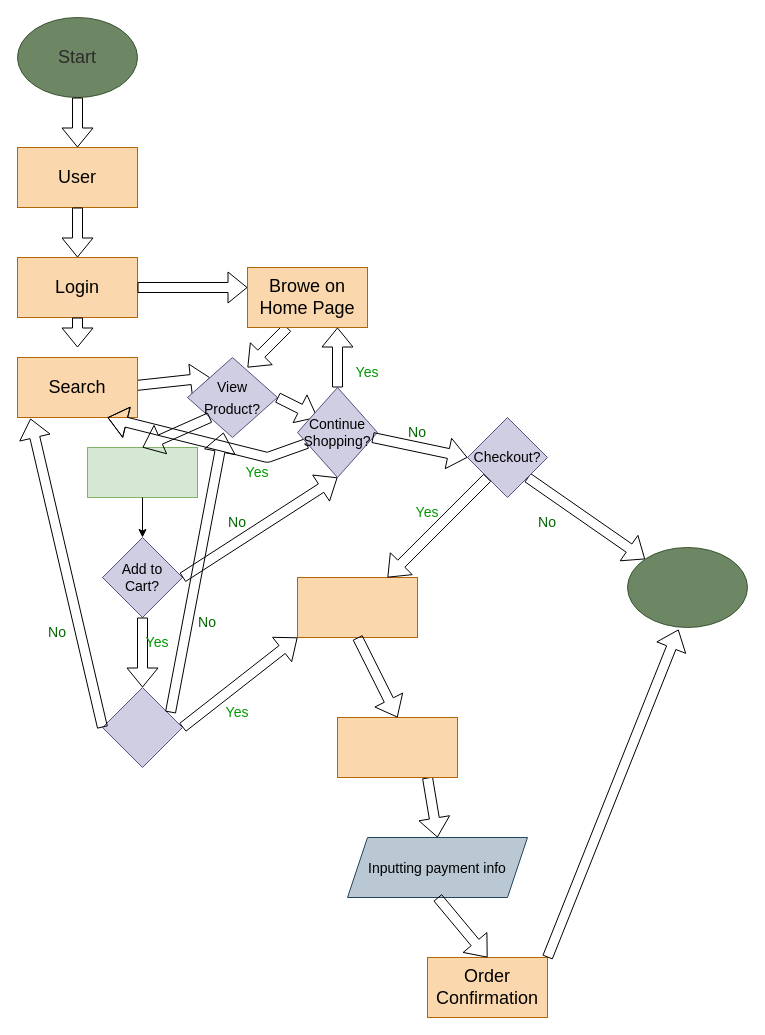
Some shapes in this 765 by 1035 pixel diagram are drawn without their labels. The box of each missing label's shape, as (x1, y1, x2, y2) in pixels:
Go to cart?: (102, 686, 182, 768)
Leave webpage/ end: (626, 546, 748, 628)
Payment page: (336, 716, 458, 778)
Product Webpage: (86, 446, 198, 498)
View Cart: (296, 576, 418, 638)
